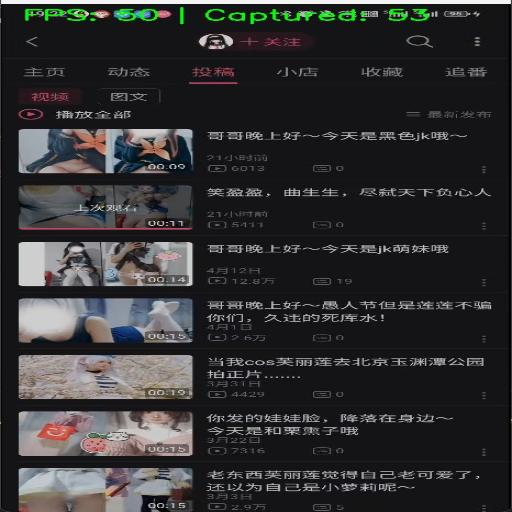back: (8, 26, 45, 52)
butten: (2, 128, 502, 180)
